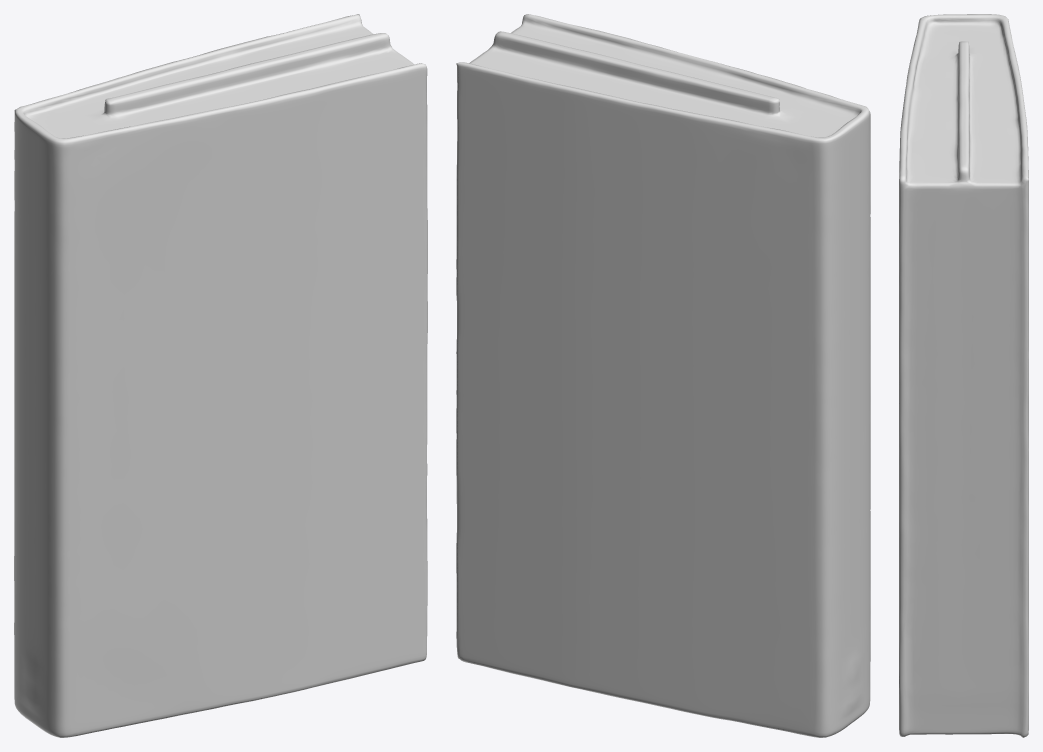
File: 3d_book_cover.glb
3 renders of one model, left to right at view 1: azimuth 30°, elevation 25°; view 2: azimuth 150°, elevation 25°; view 3: azimuth 270°, elevation 25°, orthographic. The views are drawn at different scales.
Parts seen in each view (by area): view 1: tripo_node_578c2a7f; view 2: tripo_node_578c2a7f; view 3: tripo_node_578c2a7f.
Boxes of the visible parts, left/top/right/bottom form: tripo_node_578c2a7f: left=14, top=14, right=427, bottom=737; tripo_node_578c2a7f: left=456, top=14, right=870, bottom=737; tripo_node_578c2a7f: left=899, top=14, right=1028, bottom=737.
Size of the model in its own units: 62.93 by 100 by 20.75.
1 material, 1 textured.
